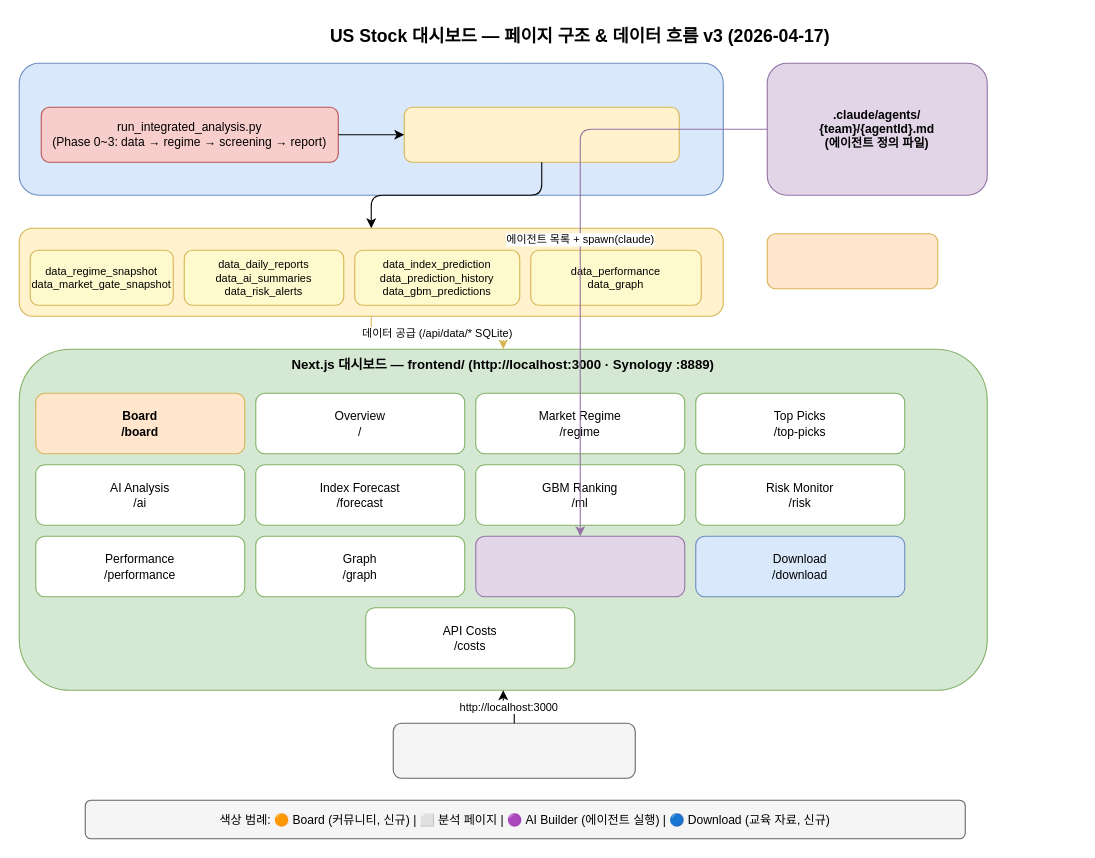
The diagram is 1095 pixels wide and 858 high, and some of its shapes have lost their labels. The box of each missing label's shape, as (x1, y1, x2, y2) in pixels:
AI Builder /ai-builder: (475, 535, 685, 597)
board.db (Synology only) 게시판 · 댓글 · 투표: (766, 233, 938, 289)
Browser — 사용자: (392, 722, 635, 778)
Mac 파이프라인 (매일 07:00 launchd 자동 실행): (18, 62, 723, 195)
output/ 결과물 data.db (SQLite) · models/*.joblib: (403, 106, 679, 162)
output/data.db — SQLite 11개 테이블 (rsync → Synology): (18, 227, 723, 316)
